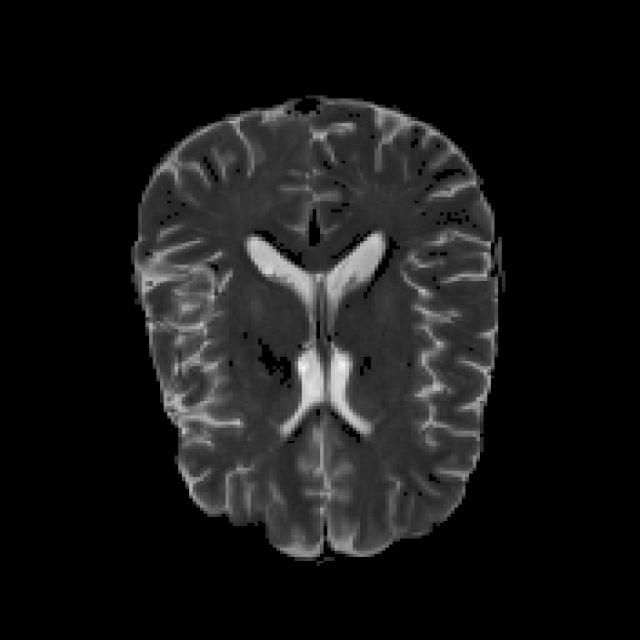parkinson: (127, 92, 502, 560)
